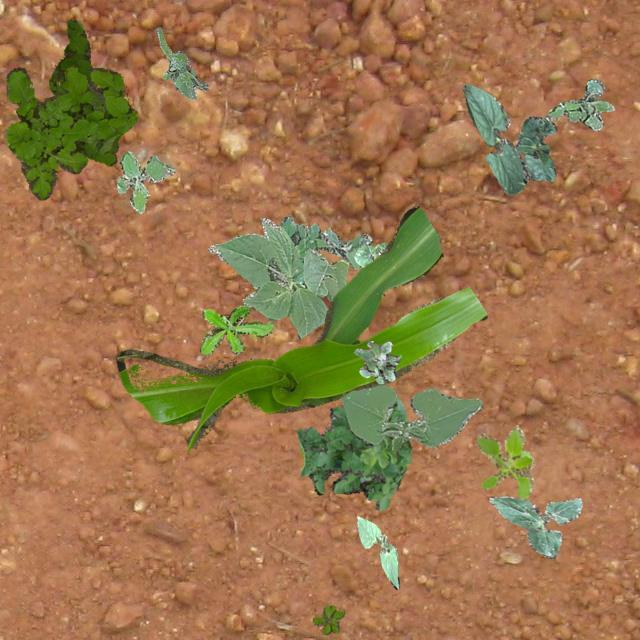crop: (116, 204, 486, 450), (208, 216, 348, 338), (338, 384, 482, 451), (462, 84, 528, 194), (488, 496, 580, 558), (356, 516, 398, 588), (512, 116, 556, 180), (354, 242, 386, 266), (292, 268, 302, 284)
weed: (5, 64, 136, 198), (296, 396, 410, 510), (48, 19, 118, 164), (278, 213, 372, 270), (474, 424, 534, 498), (156, 26, 208, 98), (198, 304, 272, 354), (544, 78, 614, 130), (115, 150, 173, 212), (352, 340, 400, 382), (312, 604, 344, 634)
